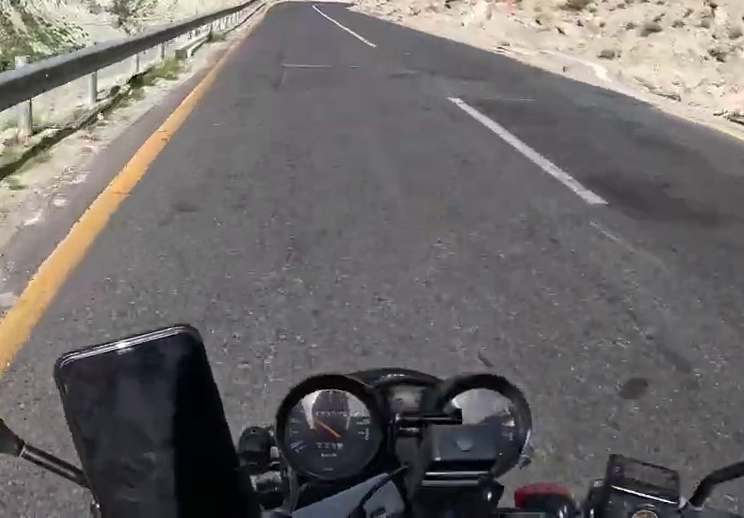left: (248, 36, 610, 263)
